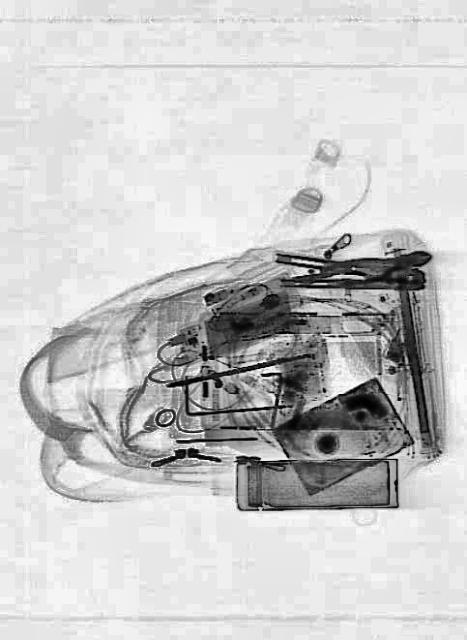Pliers: (290, 238, 434, 302), (272, 250, 426, 298)
